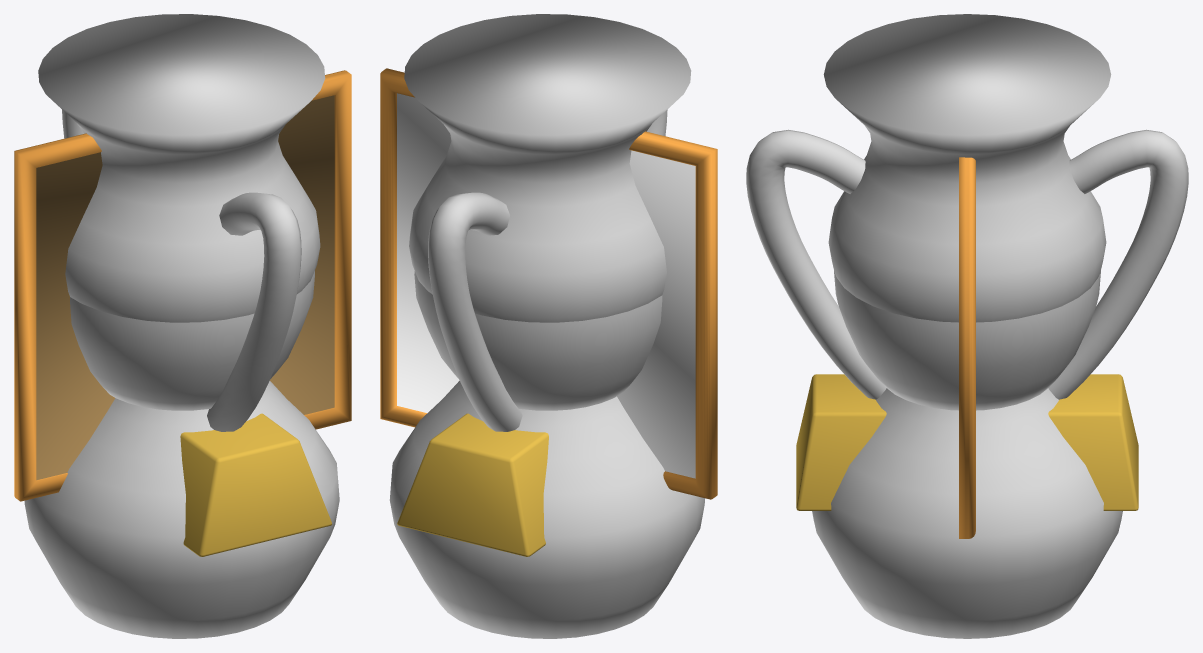
The model's file is Itemsglb.glb.
3 views of the same model, side by side, from view 1: azimuth 30°, elevation 25°; view 2: azimuth 150°, elevation 25°; view 3: azimuth 270°, elevation 25° (orthographic).
Parts seen in each view (by area): view 1: Vase2, Painting, Goldbar, Vase1, VaseHandles; view 2: Vase2, Painting, Goldbar, Vase1, VaseHandles; view 3: Vase2, VaseHandles, Vase1, Goldbar, Painting.
Boxes of the visible parts, x1=… form: Vase2: x1=24, y1=14, x2=339, y2=638; Painting: x1=14, y1=70, x2=351, y2=501; Goldbar: x1=180, y1=413, x2=332, y2=556; Vase1: x1=70, y1=271, x2=314, y2=410; VaseHandles: x1=62, y1=110, x2=301, y2=431; Vase2: x1=389, y1=14, x2=705, y2=638; Painting: x1=380, y1=68, x2=717, y2=499; Goldbar: x1=397, y1=413, x2=548, y2=556; Vase1: x1=414, y1=271, x2=662, y2=410; VaseHandles: x1=428, y1=109, x2=667, y2=431; Vase2: x1=812, y1=14, x2=1122, y2=638; VaseHandles: x1=746, y1=129, x2=1188, y2=399; Vase1: x1=834, y1=271, x2=1100, y2=410; Goldbar: x1=796, y1=374, x2=1138, y2=510; Painting: x1=959, y1=157, x2=975, y2=538.
Size of the model in its own units: 0.8 by 1.19 by 0.9266.
